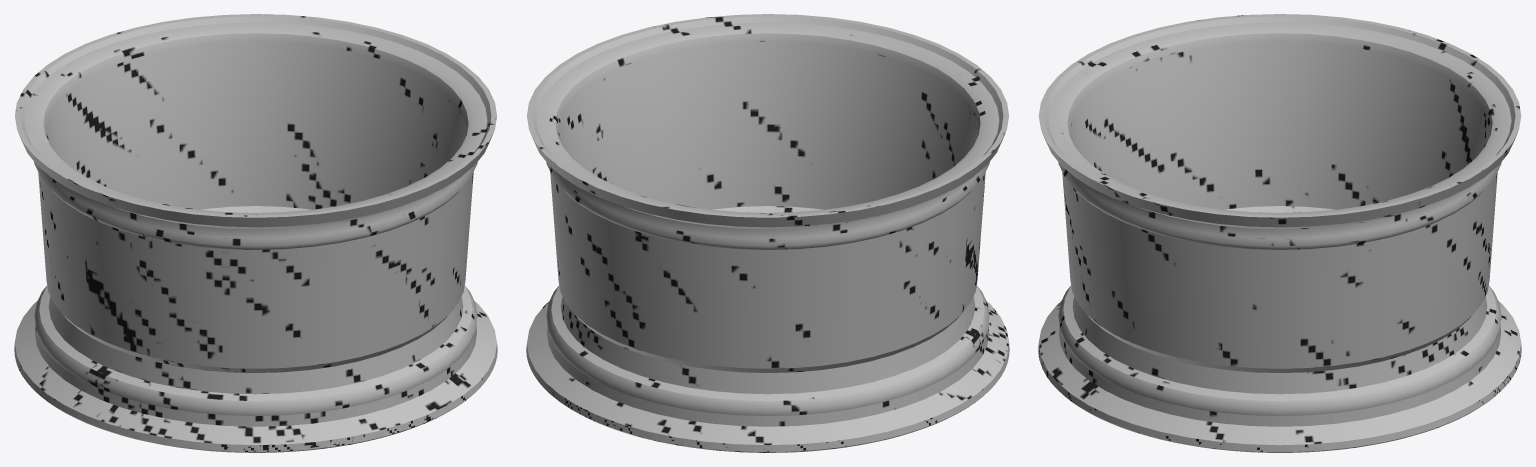
The model's file is rim-tg002-forged-wheel.glb.
3 renders of one model, left to right at view 1: azimuth 30°, elevation 25°; view 2: azimuth 150°, elevation 25°; view 3: azimuth 270°, elevation 25°, orthographic.
Visible parts, largest first — view 1: mesh_0; view 2: mesh_0; view 3: mesh_0.
Part boxes in pixels (<box>): mesh_0: <box>14,14,497,452</box>; mesh_0: <box>526,14,1009,452</box>; mesh_0: <box>1038,14,1521,452</box>.
Bounding box in the file's own units: 0.55 × 0.2958 × 0.55.
1 material, 1 textured.
